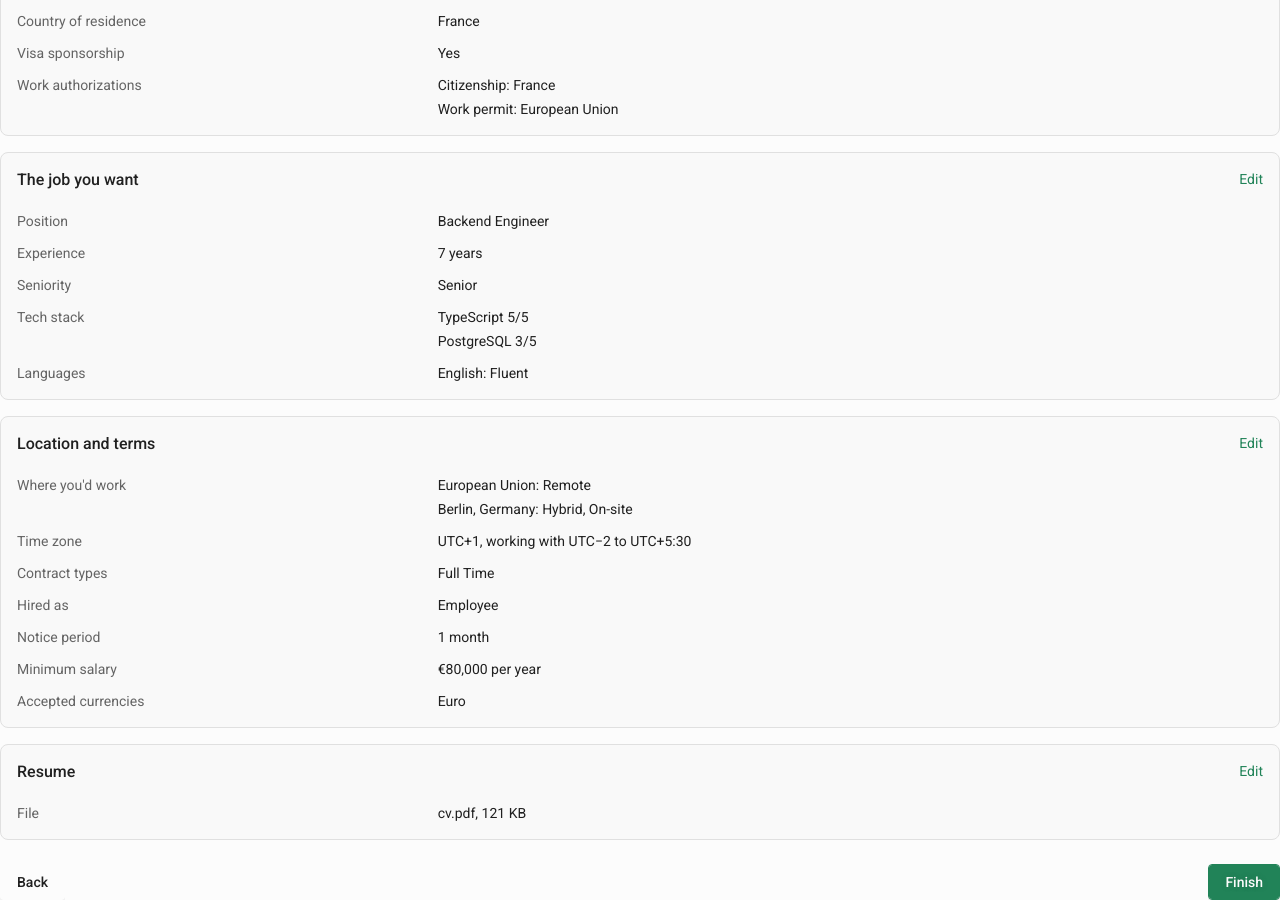
Review › a failed publish shows the message and Finish works again
This screenshot has width=1280, height=900.
(page scrolled)
Click the button "Finish".
click(1244, 882)  # box [1208,864,1279,899]
(page scrolled)
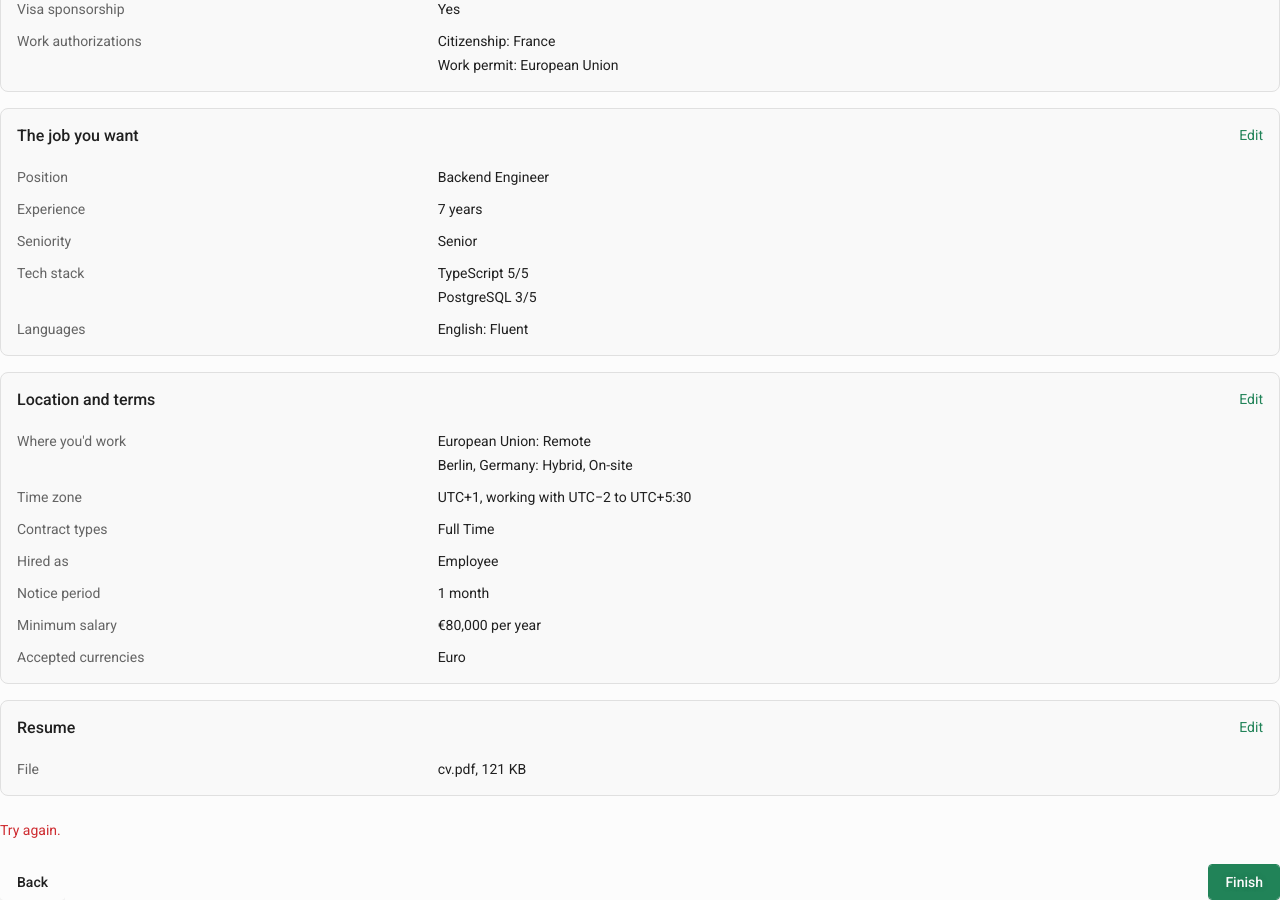
Check: the message reads "Try again.", box [0,822,61,838]
